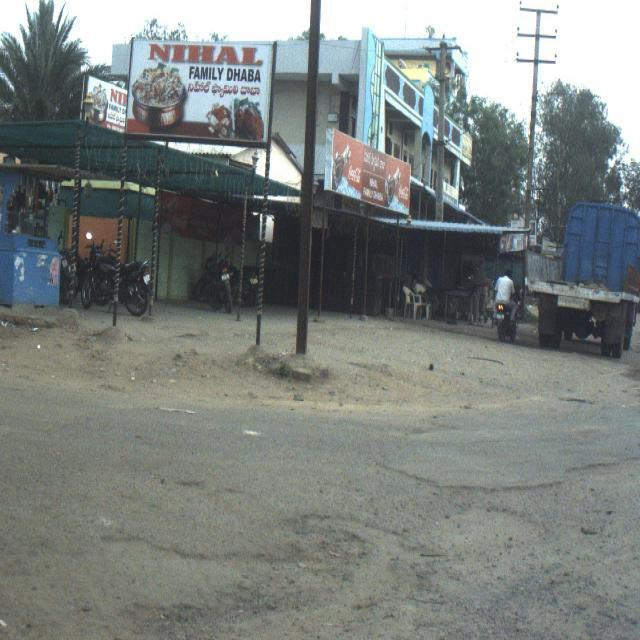Pothole: (291, 486, 638, 640), (89, 496, 266, 640), (376, 402, 640, 484), (447, 345, 543, 395)
